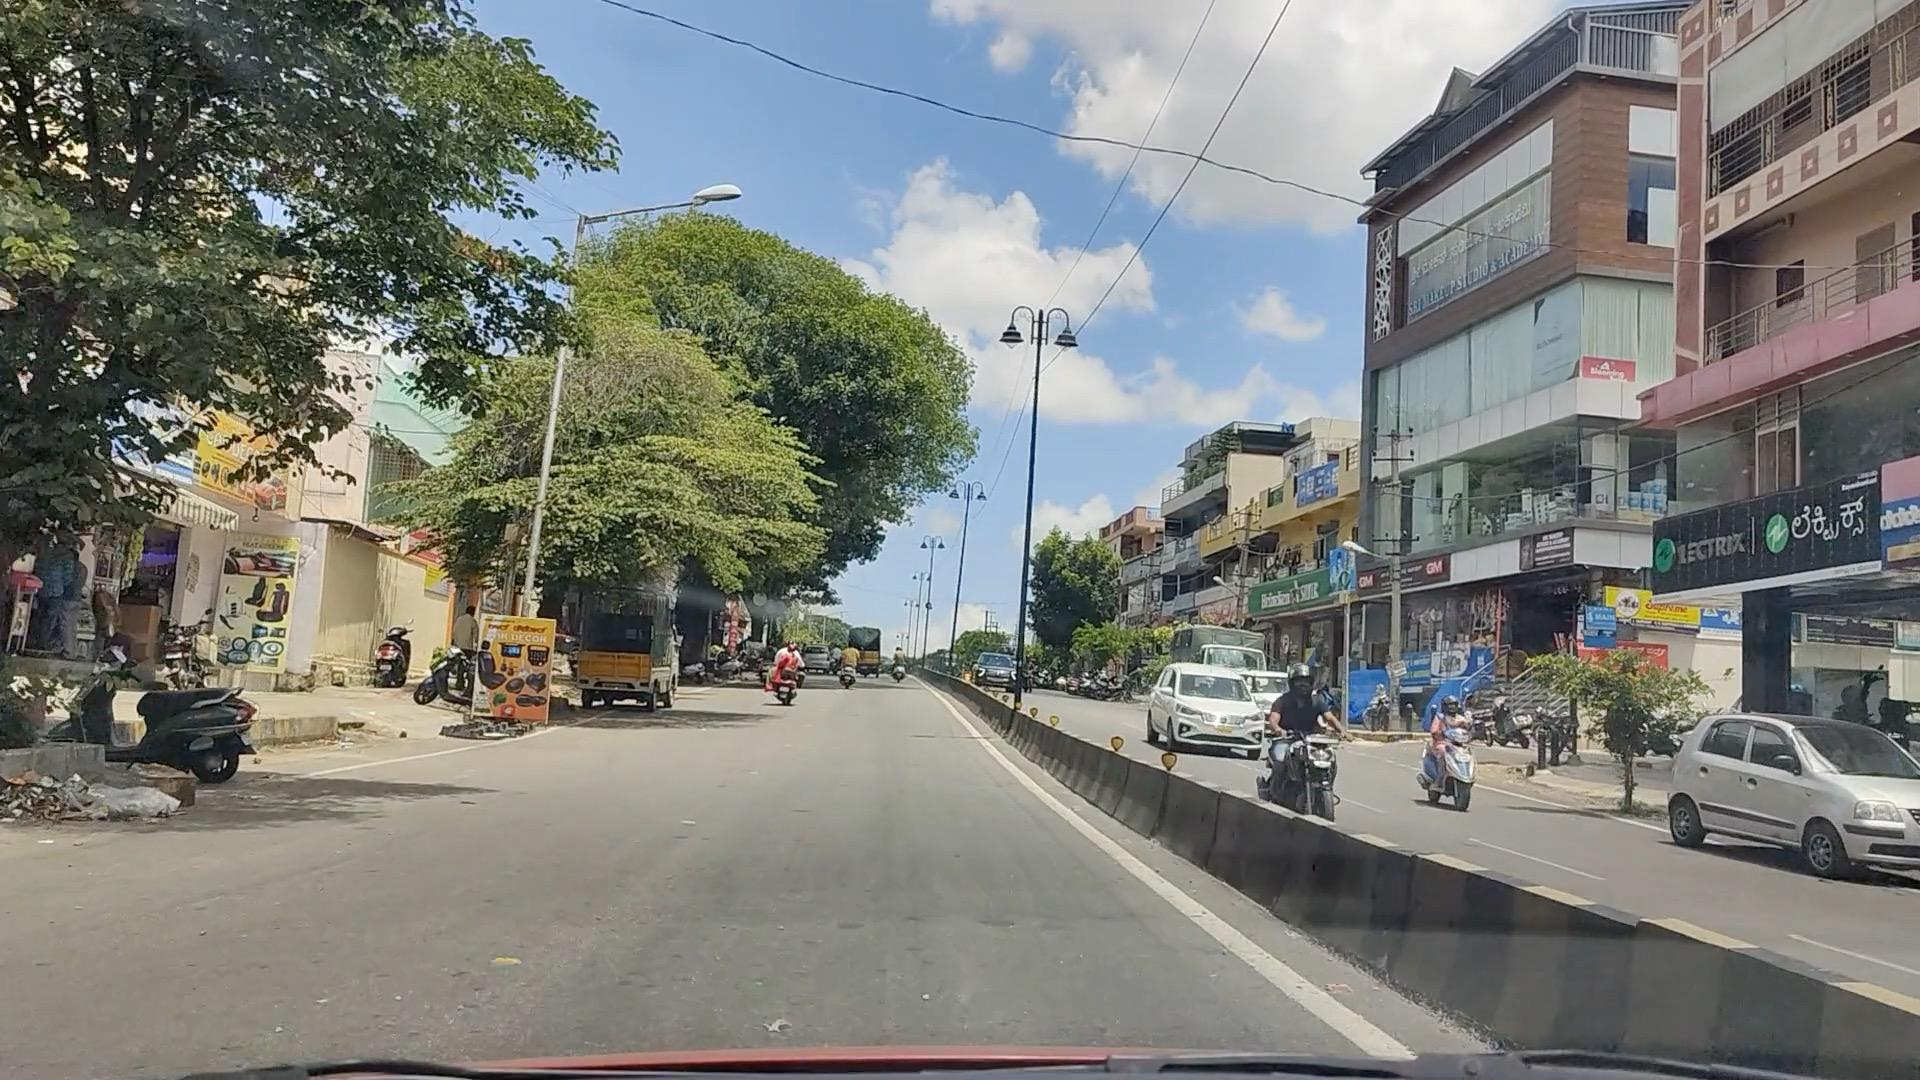HMV: (556, 550, 678, 723)
